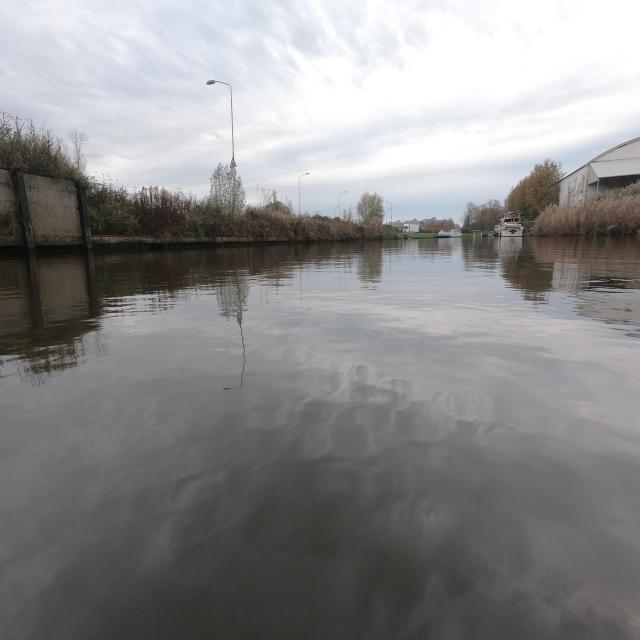boat: (494, 212, 524, 237)
reed: (87, 163, 392, 241), (531, 181, 640, 235)
wall: (0, 169, 91, 249)
water: (0, 238, 640, 640)
